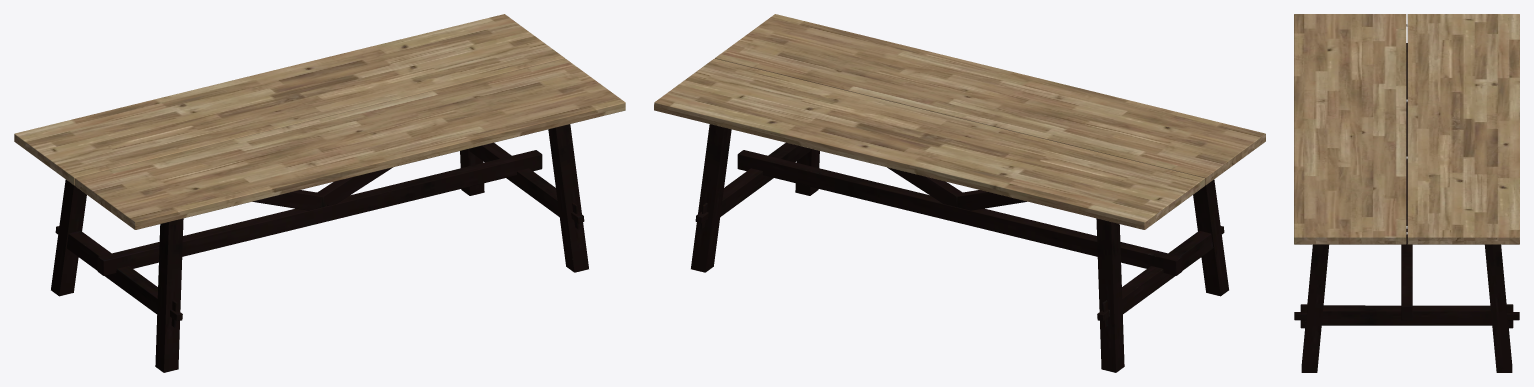
The picture shows the model from 3 angles, left to right: view 1: azimuth 30°, elevation 25°; view 2: azimuth 150°, elevation 25°; view 3: azimuth 270°, elevation 25°; orthographic projection. The views are drawn at different scales.
Parts seen in each view (by area): view 1: 70419264-SKOGSTA001; view 2: 70419264-SKOGSTA001; view 3: 70419264-SKOGSTA001.
Part boxes in pixels (x1=…): 70419264-SKOGSTA001: x1=14, y1=14, x2=625, y2=372; 70419264-SKOGSTA001: x1=654, y1=14, x2=1265, y2=372; 70419264-SKOGSTA001: x1=1294, y1=14, x2=1519, y2=372.
Bounding box in the file's own units: 2.35 × 0.743 × 1.
Materials: 1 (1 with a texture image).
